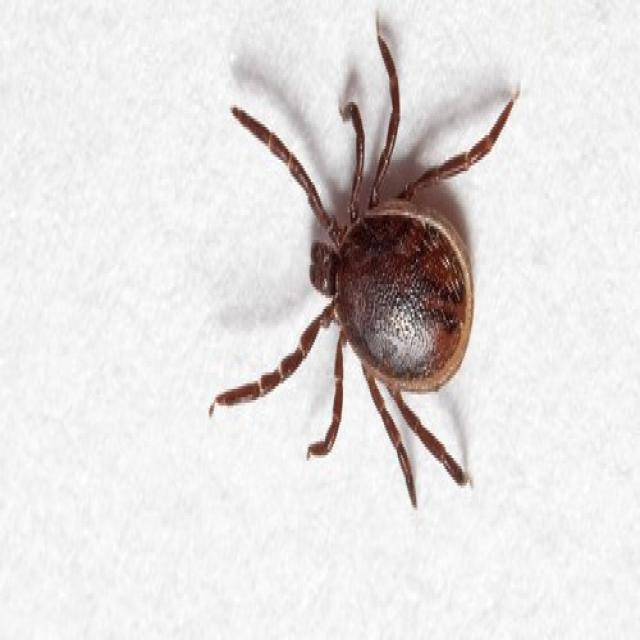Ixodes Ricinus-M: (210, 39, 513, 508)
